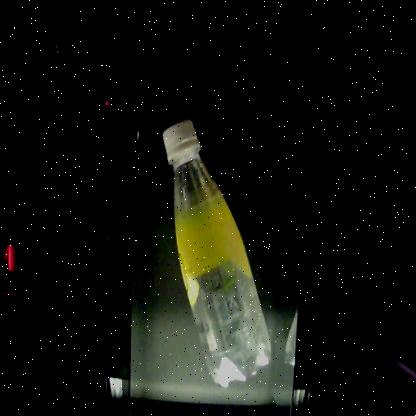Plastic Bottle: (161, 118, 269, 388)
